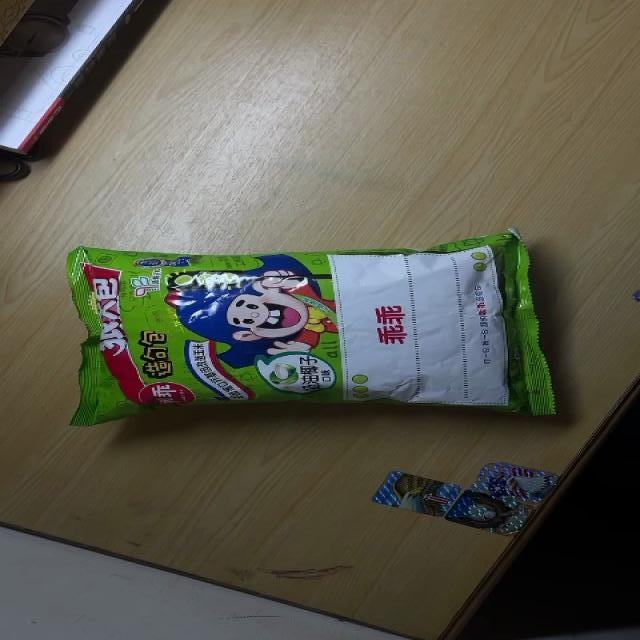Good-Luck: (64, 228, 560, 429)
